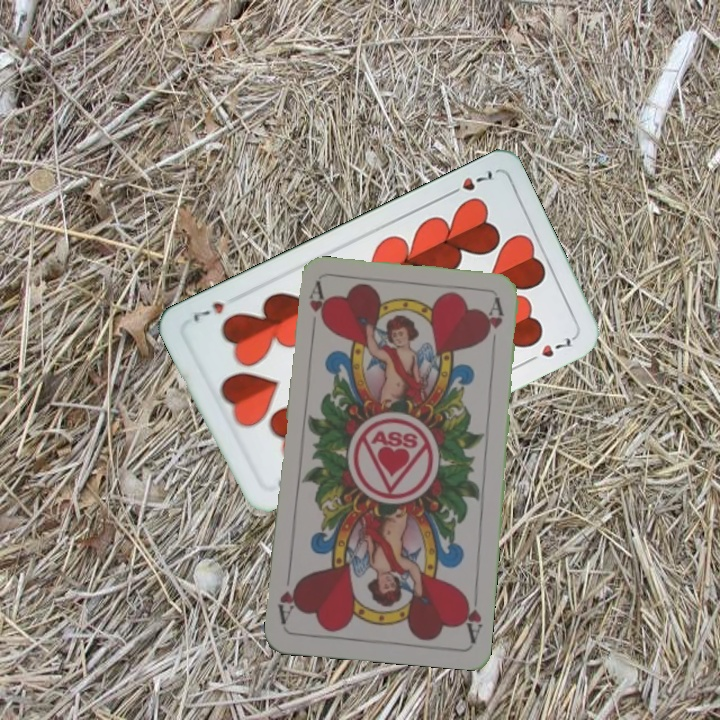H7: (442, 167, 495, 200)
HA: (458, 585, 485, 644), (305, 280, 326, 339)
